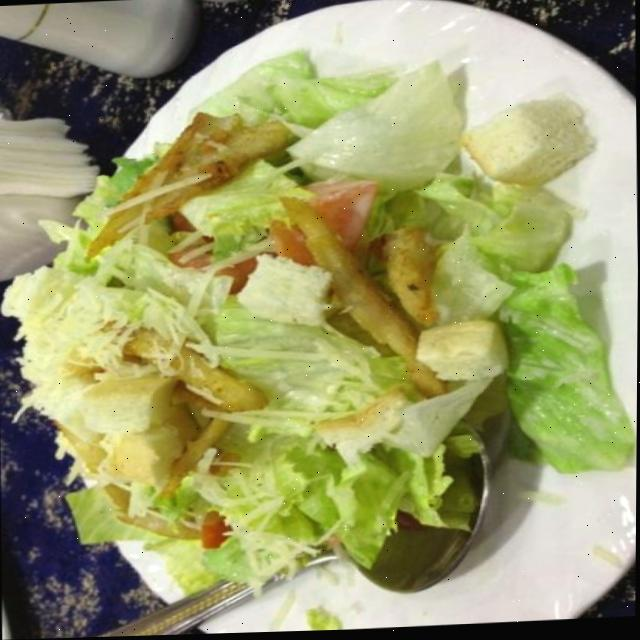蔬菜料理: (0, 3, 632, 640)
